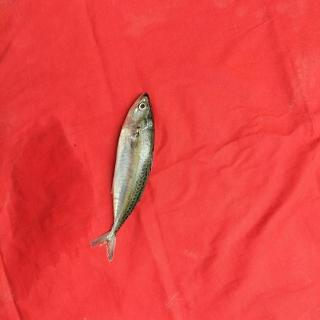Ikan: (79, 84, 171, 274)
